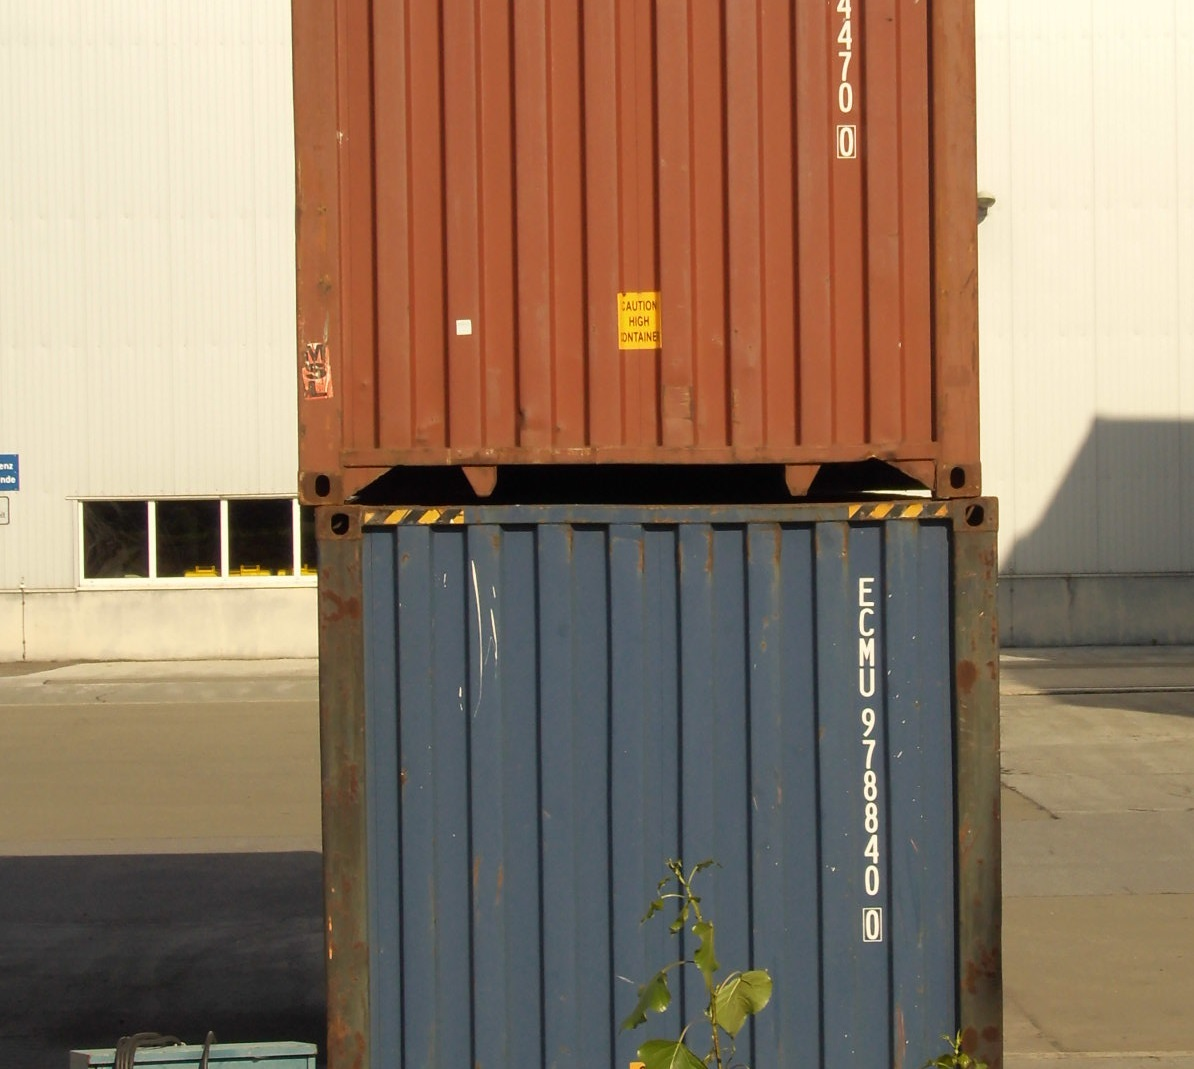container_no_door: (315, 500, 1011, 1069), (292, 1, 979, 499)
